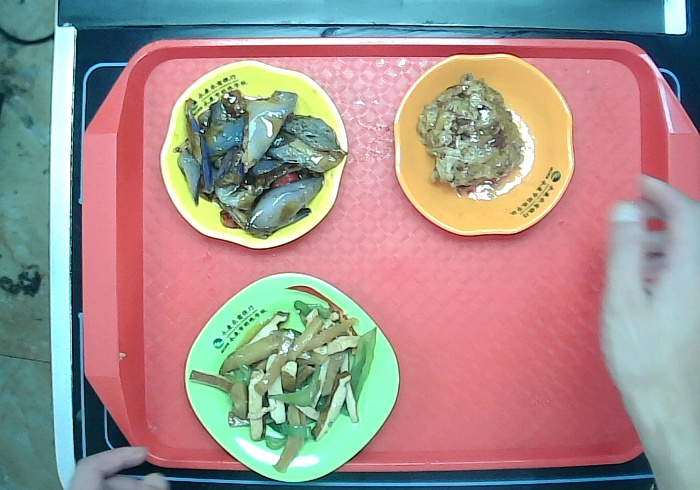YKMZ-Huang_Se_Ao_Bian_Wan: (154, 55, 351, 260)
YKMZ-Ju_Se_Ao_Bian_Wan: (387, 44, 582, 240)
YKMZ-Lv_Se_Fang_Die: (183, 268, 412, 485)
